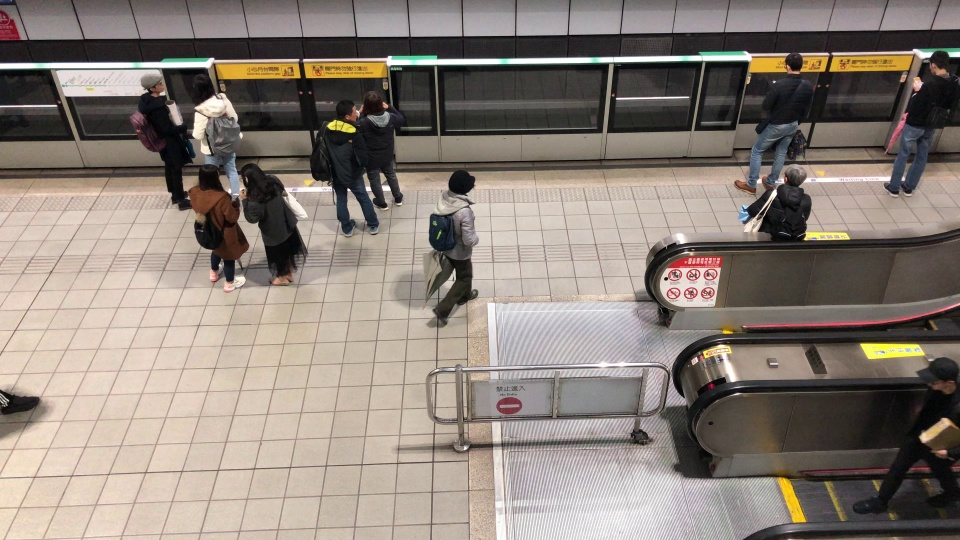person_head: (914, 357, 960, 396), (446, 168, 476, 197), (197, 163, 223, 193), (238, 162, 265, 189), (139, 73, 167, 97), (193, 73, 217, 101), (926, 50, 950, 78), (783, 163, 808, 188), (334, 97, 358, 123), (362, 90, 384, 116), (783, 53, 803, 76)
person_vbox: (850, 357, 960, 519), (881, 50, 960, 207), (733, 53, 815, 192), (420, 169, 486, 327), (309, 97, 380, 238), (233, 162, 311, 288), (127, 73, 196, 212), (182, 164, 250, 291), (186, 73, 245, 198), (352, 88, 407, 211), (733, 163, 814, 242)
